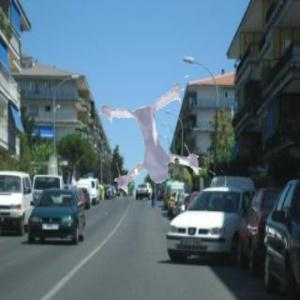drone: (85, 84, 227, 226)
